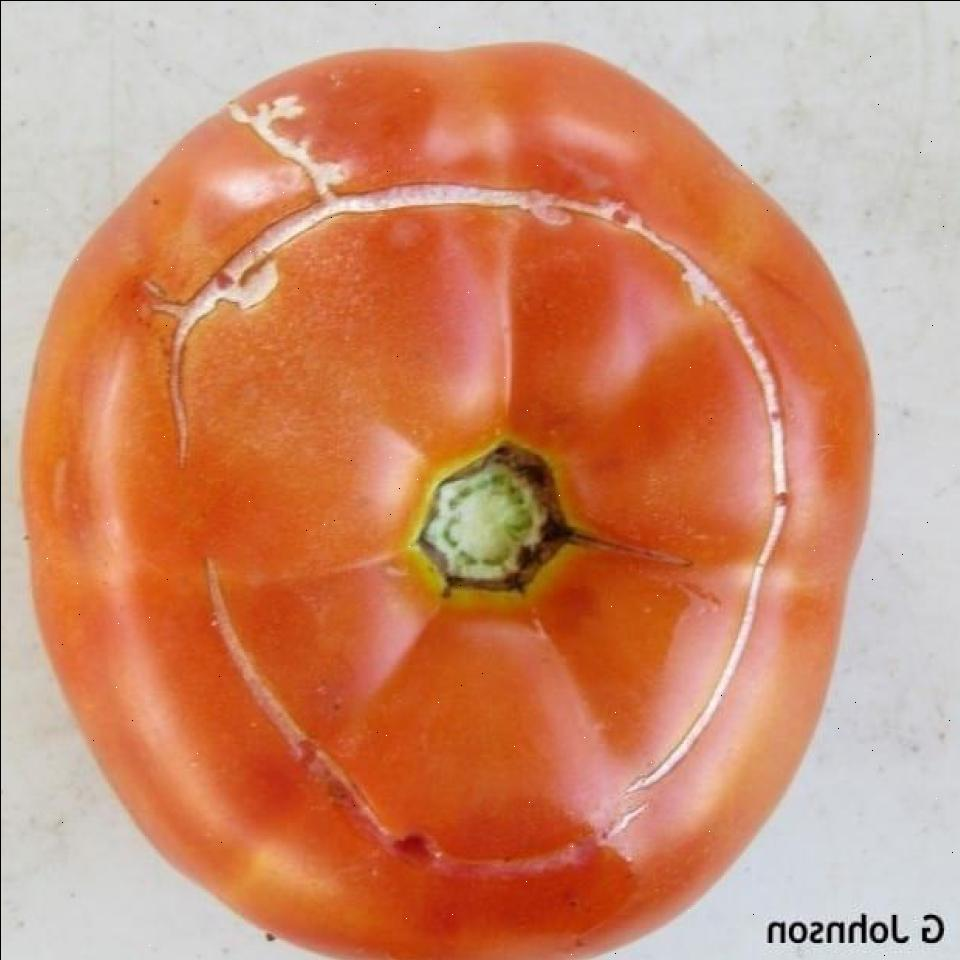Cracking: (160, 162, 798, 890), (222, 71, 369, 202)
